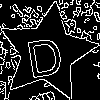D: (22, 27, 66, 79)
